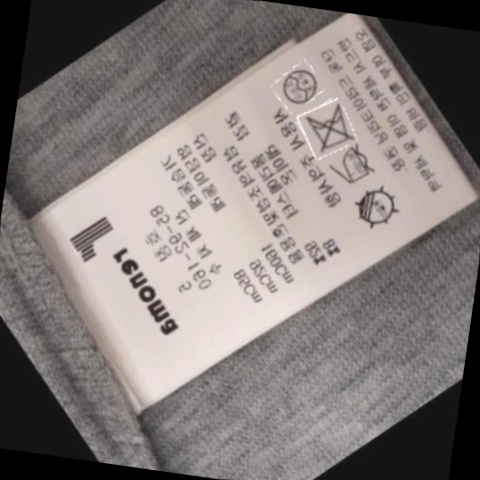DN_wash: (295, 99, 359, 157)
dry_clean_petrol_only: (273, 60, 324, 110)
iron_low: (325, 141, 382, 193)
line_dry_in_shade: (343, 181, 404, 235)
